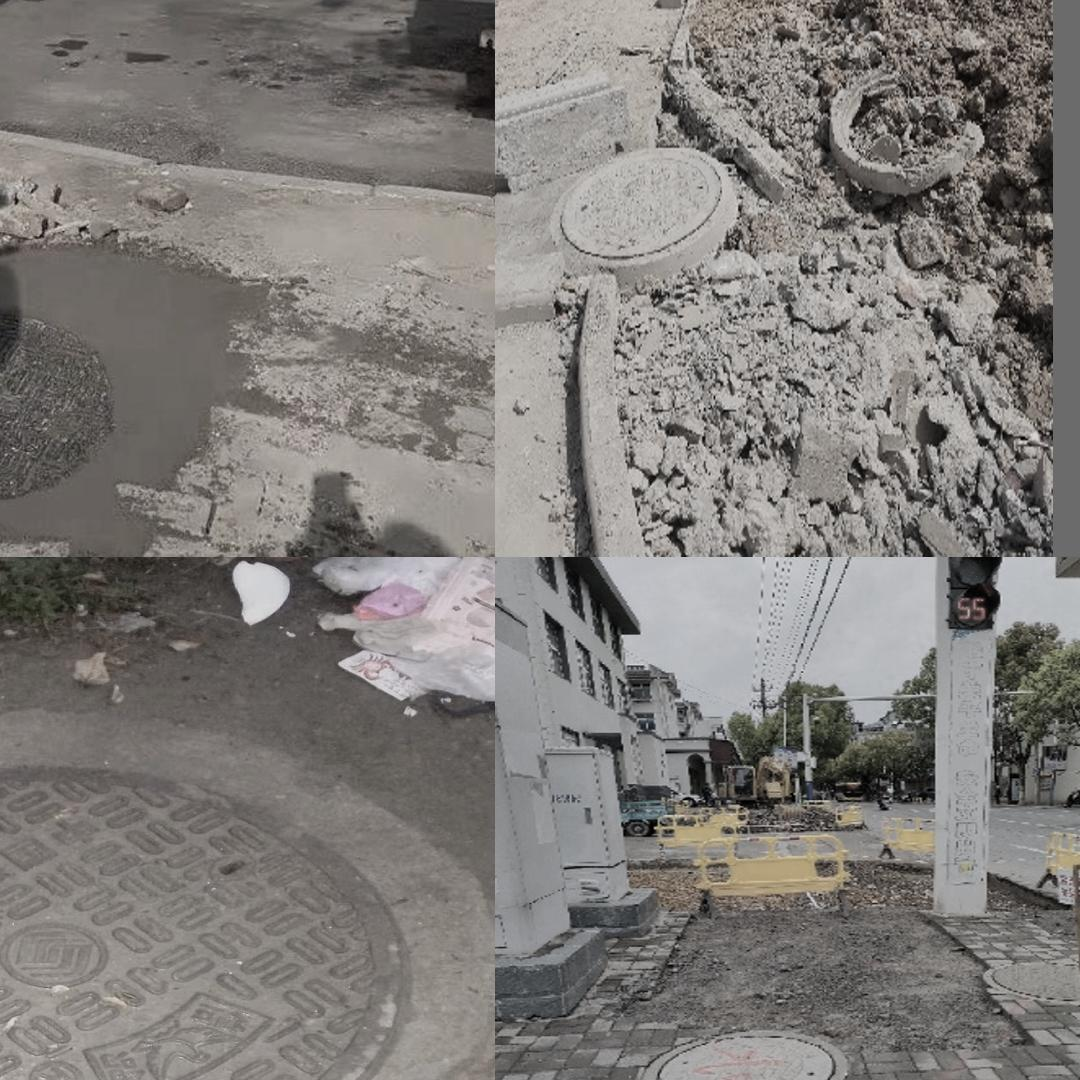good: (0, 722, 485, 1080), (0, 237, 228, 543), (550, 145, 731, 262), (638, 1028, 845, 1080), (983, 961, 1080, 1001)
